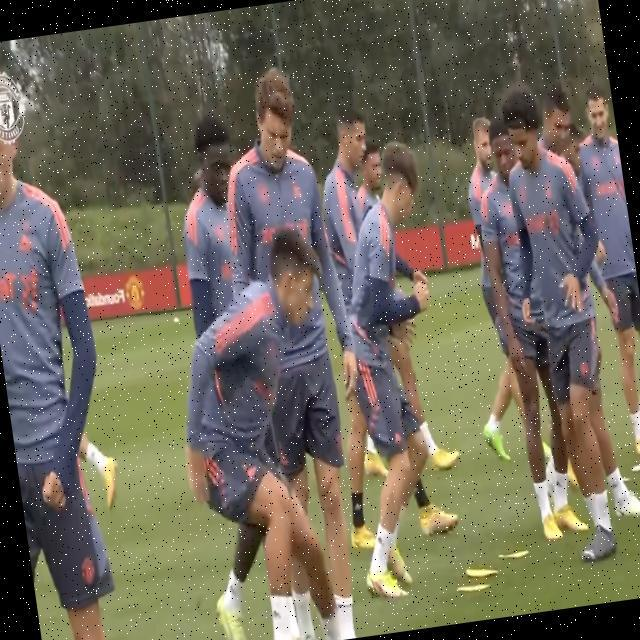Adidas: (245, 462, 259, 484), (18, 233, 33, 253), (277, 452, 291, 469), (291, 183, 303, 199)
